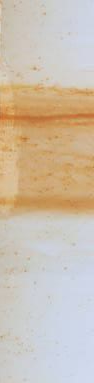Corrosion: (1, 82, 94, 219)
